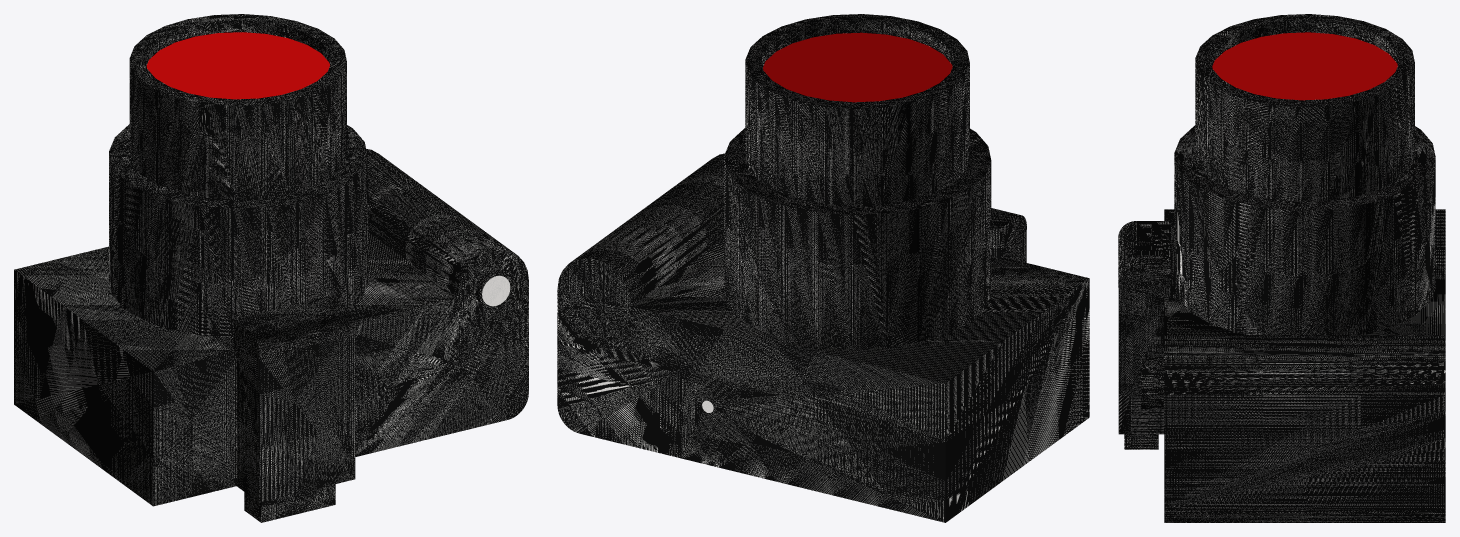
Rendered from model_scale.obj.
3 views of the same model, side by side, from view 1: azimuth 30°, elevation 25°; view 2: azimuth 150°, elevation 25°; view 3: azimuth 270°, elevation 25° (orthographic). The views are drawn at different scales.
Parts seen in each view (by area): view 1: mesh2_mesh2-geometry, mesh1_mesh1-geometry; view 2: mesh2_mesh2-geometry, mesh1_mesh1-geometry; view 3: mesh1_mesh1-geometry, mesh2_mesh2-geometry.
Boxes of the visible parts, left/top/right/bottom form: mesh2_mesh2-geometry: left=14, top=149, right=528, bottom=522; mesh1_mesh1-geometry: left=109, top=14, right=367, bottom=337; mesh2_mesh2-geometry: left=557, top=153, right=1089, bottom=522; mesh1_mesh1-geometry: left=724, top=14, right=991, bottom=348; mesh1_mesh1-geometry: left=1174, top=14, right=1435, bottom=335; mesh2_mesh2-geometry: left=1118, top=209, right=1445, bottom=522.
Size of the model in its own units: 0.1758 by 0.1706 by 0.1313.
